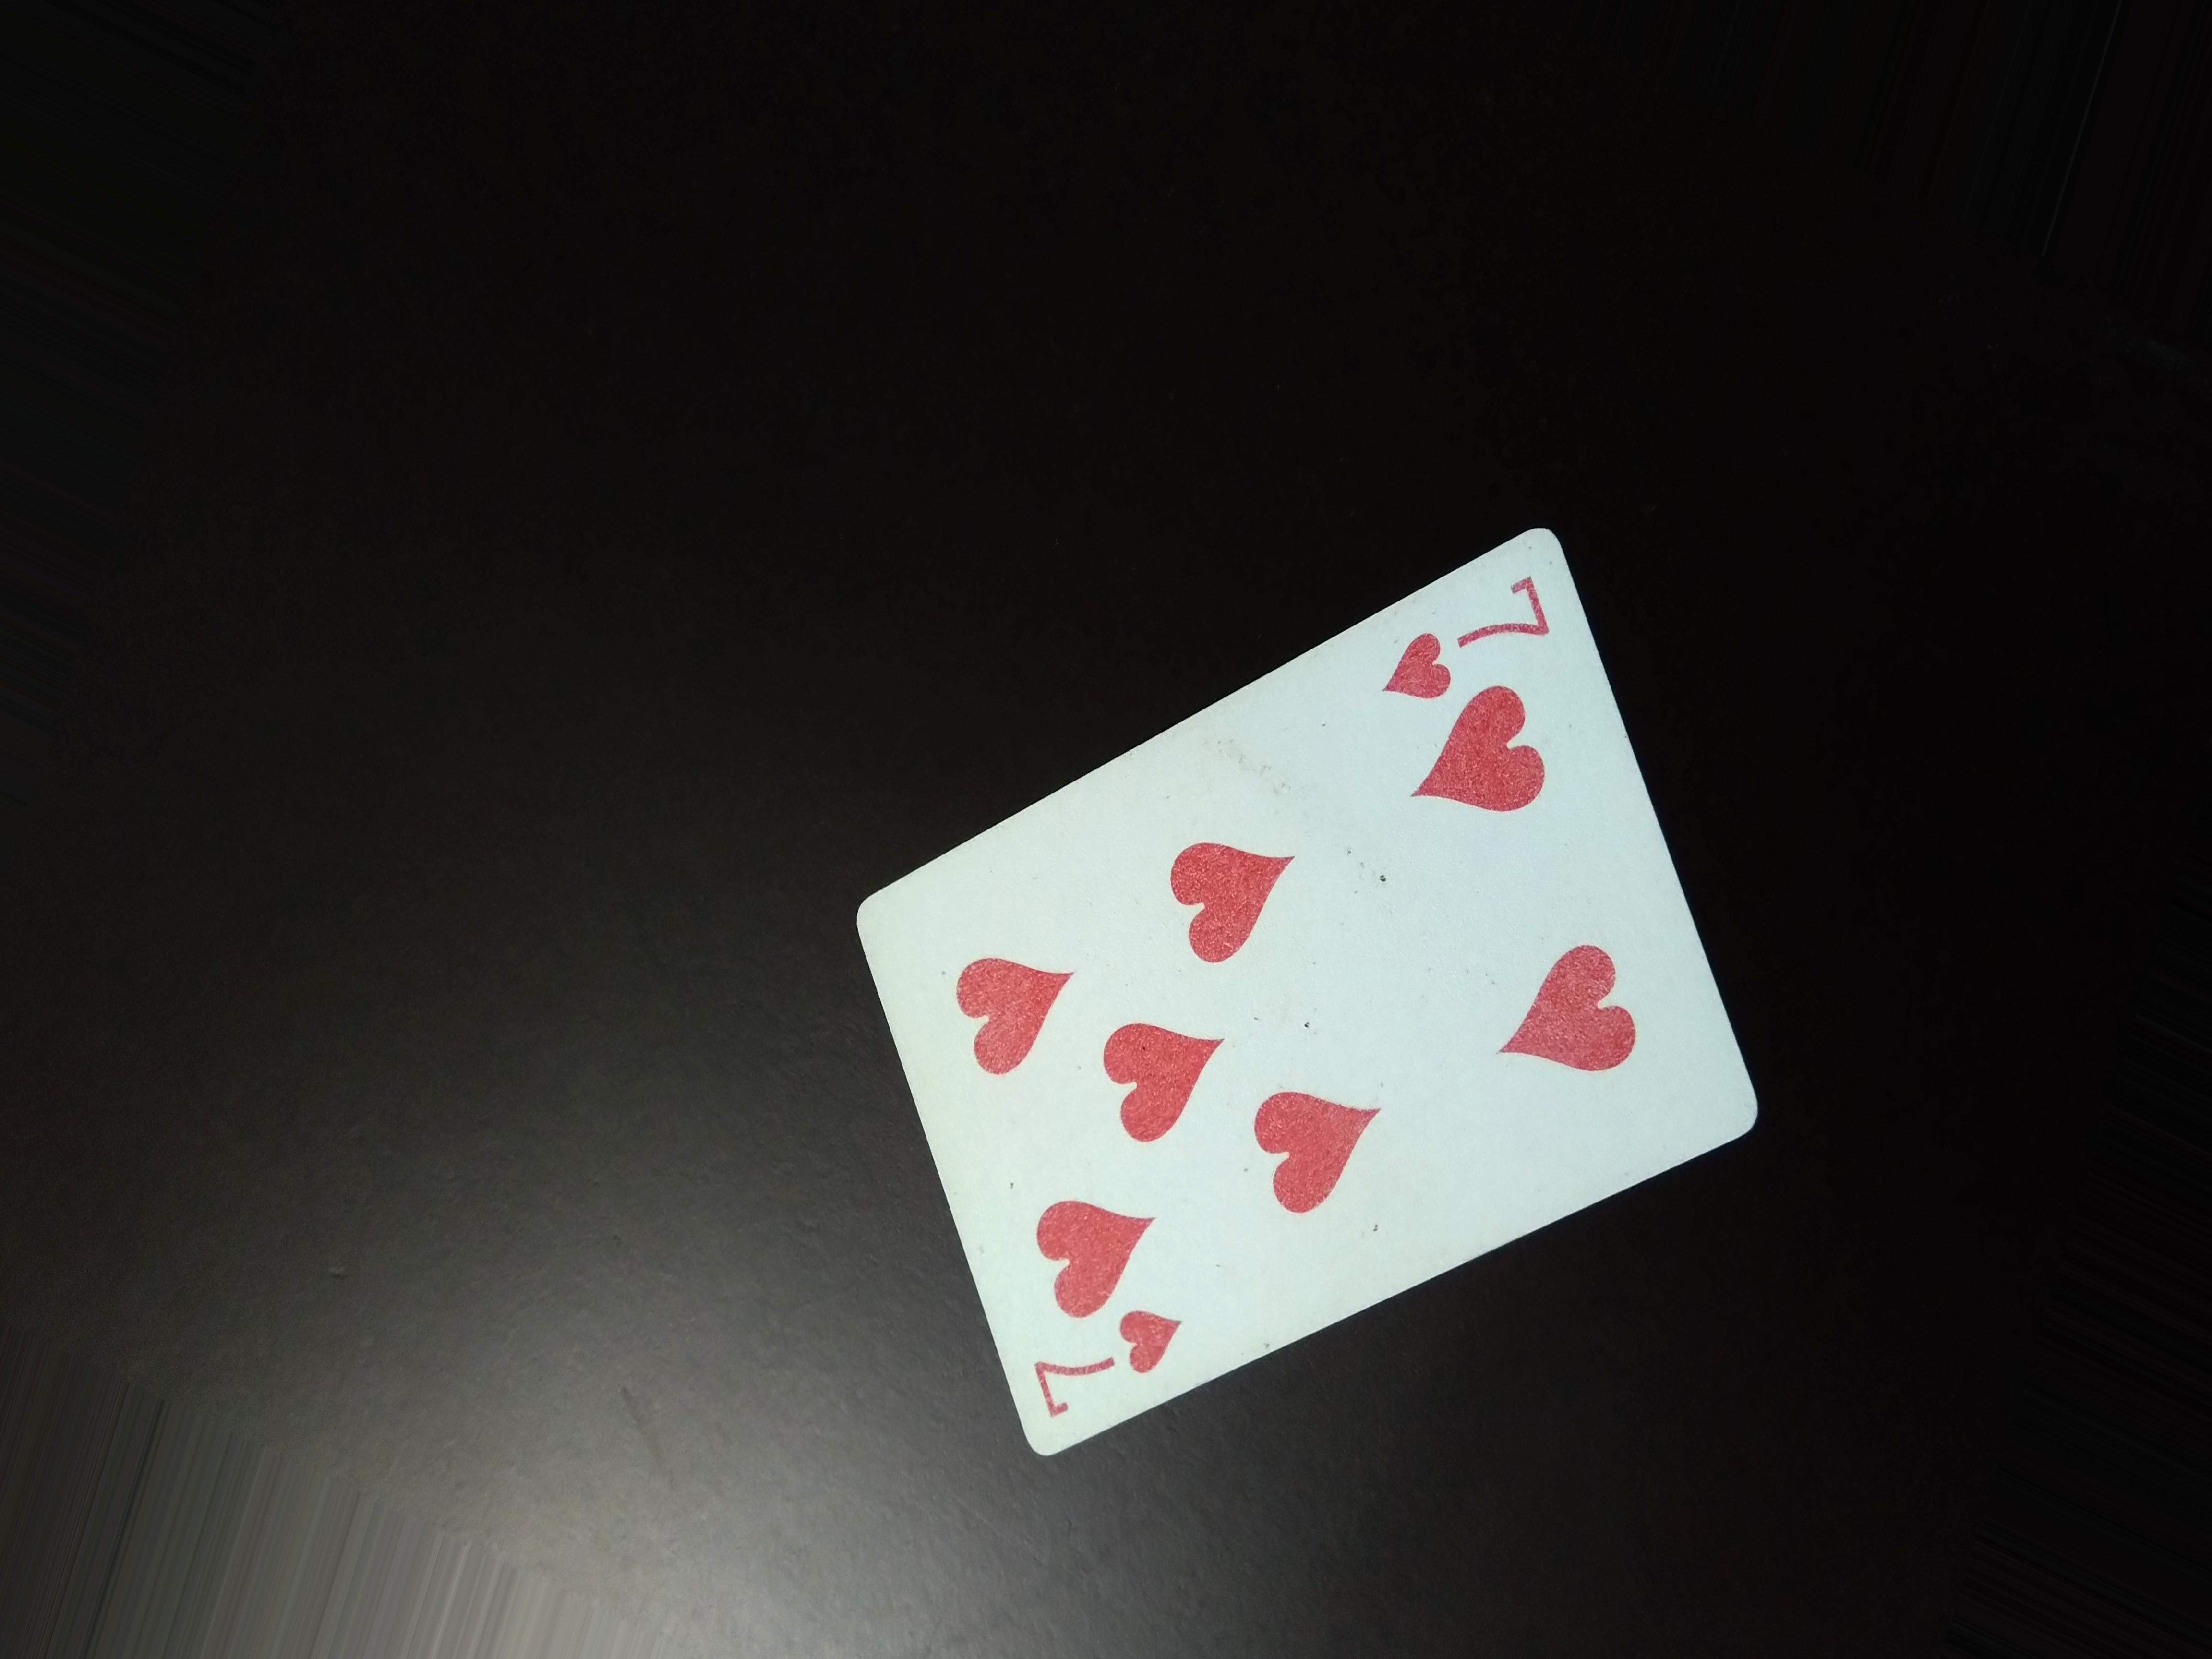7H: (1376, 558, 1562, 716)
